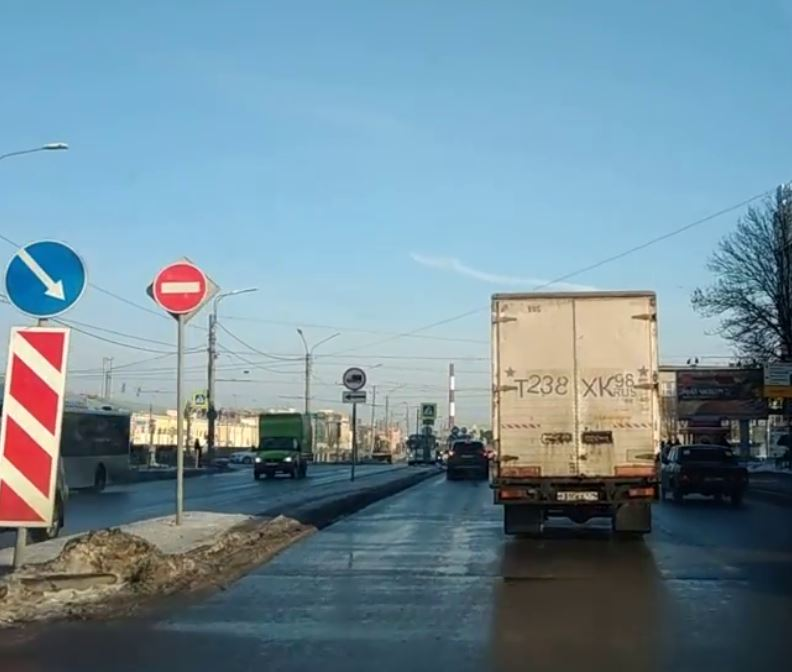Sagdan Git: (3, 232, 89, 326)
